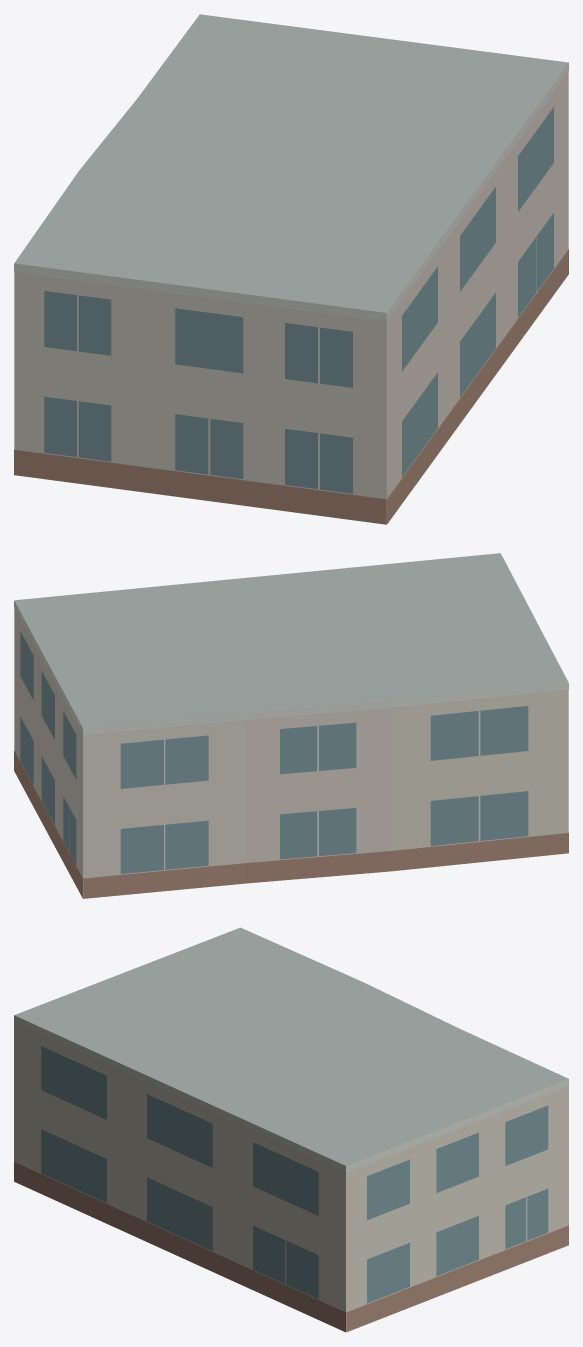
File: survey-upis-32639424.glb
3 renders of one model, top to bottom at view 1: azimuth 30°, elevation 25°; view 2: azimuth 150°, elevation 25°; view 3: azimuth 270°, elevation 25°, orthographic. The views are drawn at different scales.
Parts seen in each view (by area): view 1: survey-upis-32639424.tmp; view 2: survey-upis-32639424.tmp; view 3: survey-upis-32639424.tmp.
Boxes of the visible parts, x1,y1,x2,y2 form: survey-upis-32639424.tmp: [14, 14, 568, 524]; survey-upis-32639424.tmp: [14, 553, 568, 898]; survey-upis-32639424.tmp: [14, 927, 568, 1332].
Bounding box in the file's own units: 18.76 × 6.1 × 18.44.
